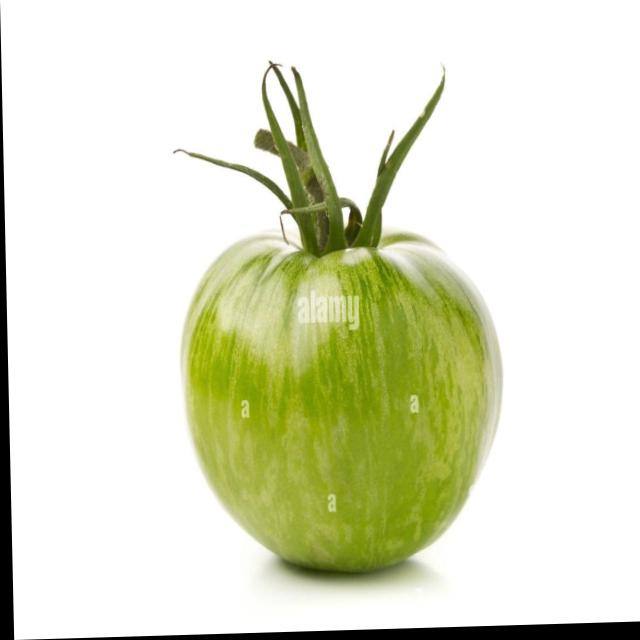kirmizi: (152, 214, 519, 592)
yesil: (152, 211, 522, 594), (142, 225, 154, 229)
